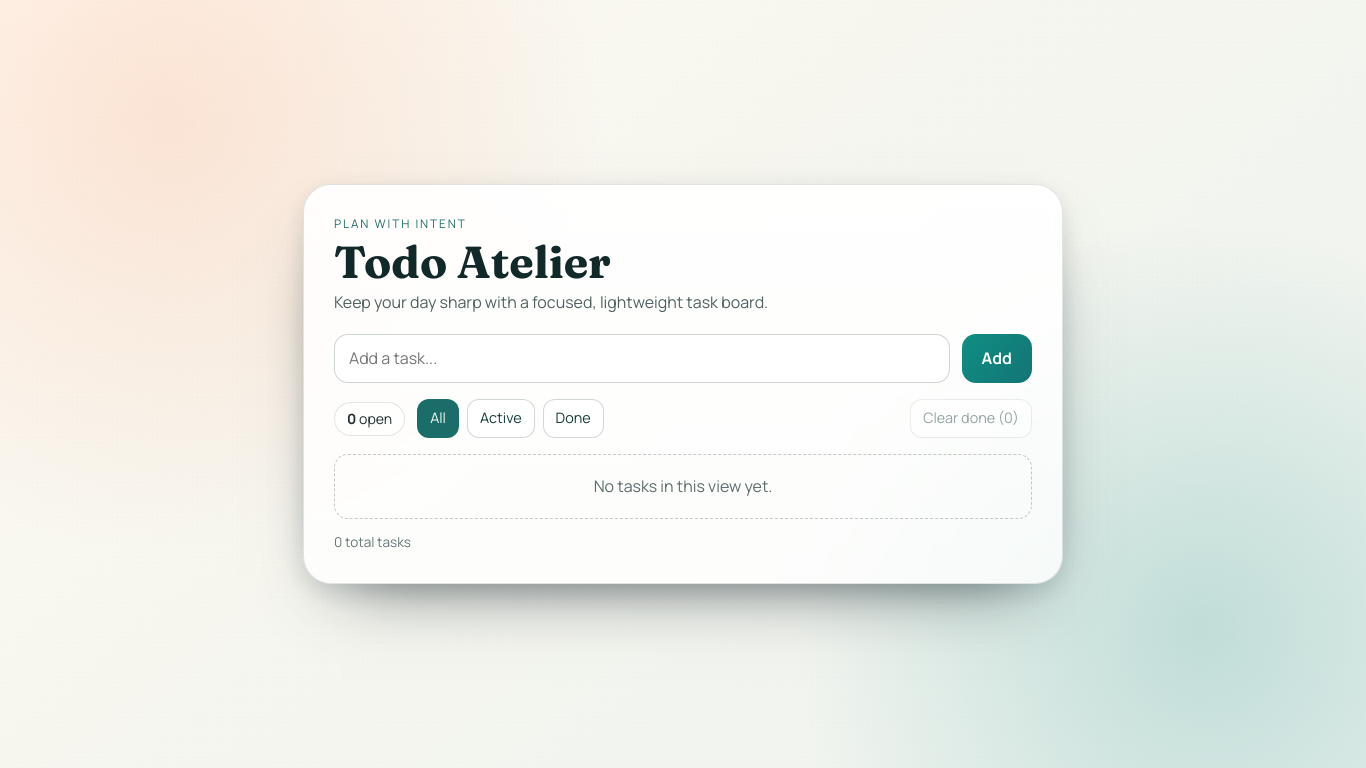
Test case: App › adds a new todo
Type "Buy groceries" into the field with placeholder "Add a task..." at (642, 359), box left=334, top=334, right=950, bottom=383
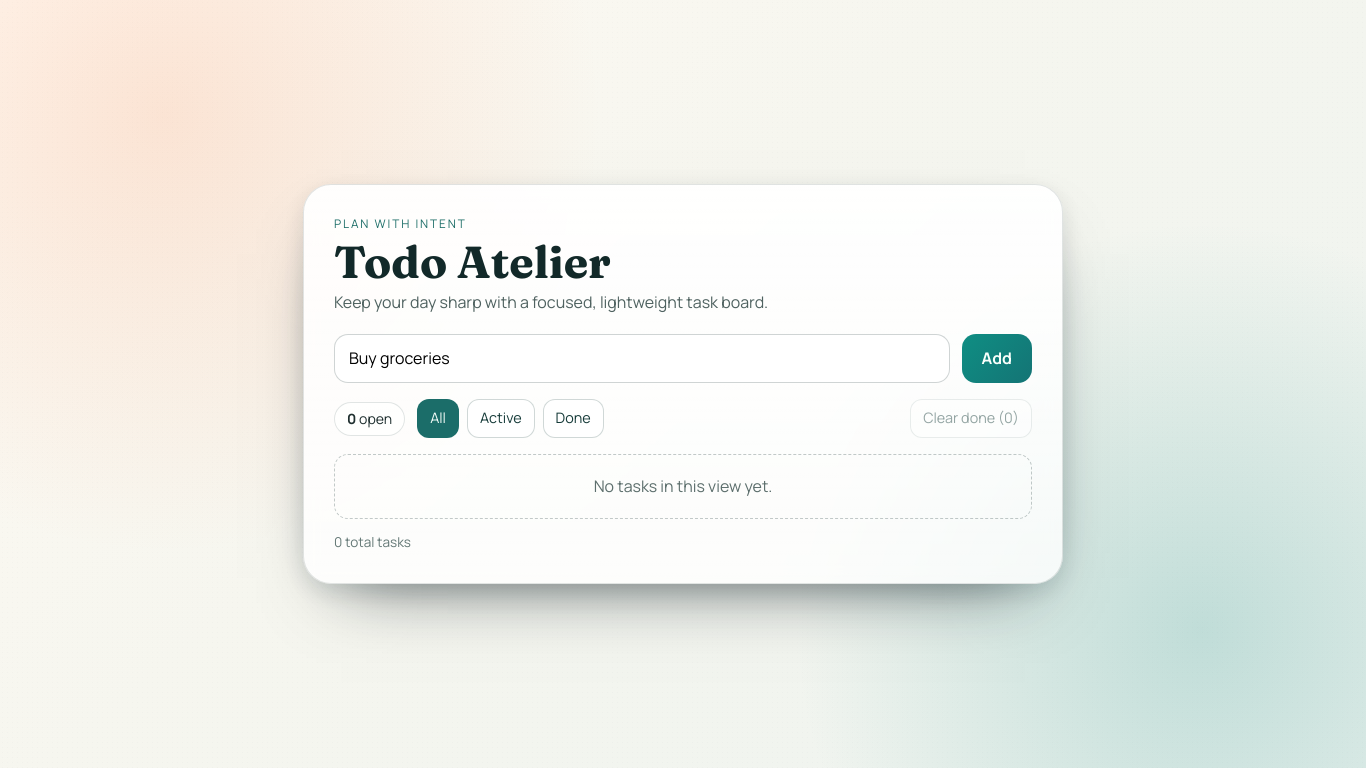
Click the button "Add" at (997, 359), box left=962, top=334, right=1032, bottom=383
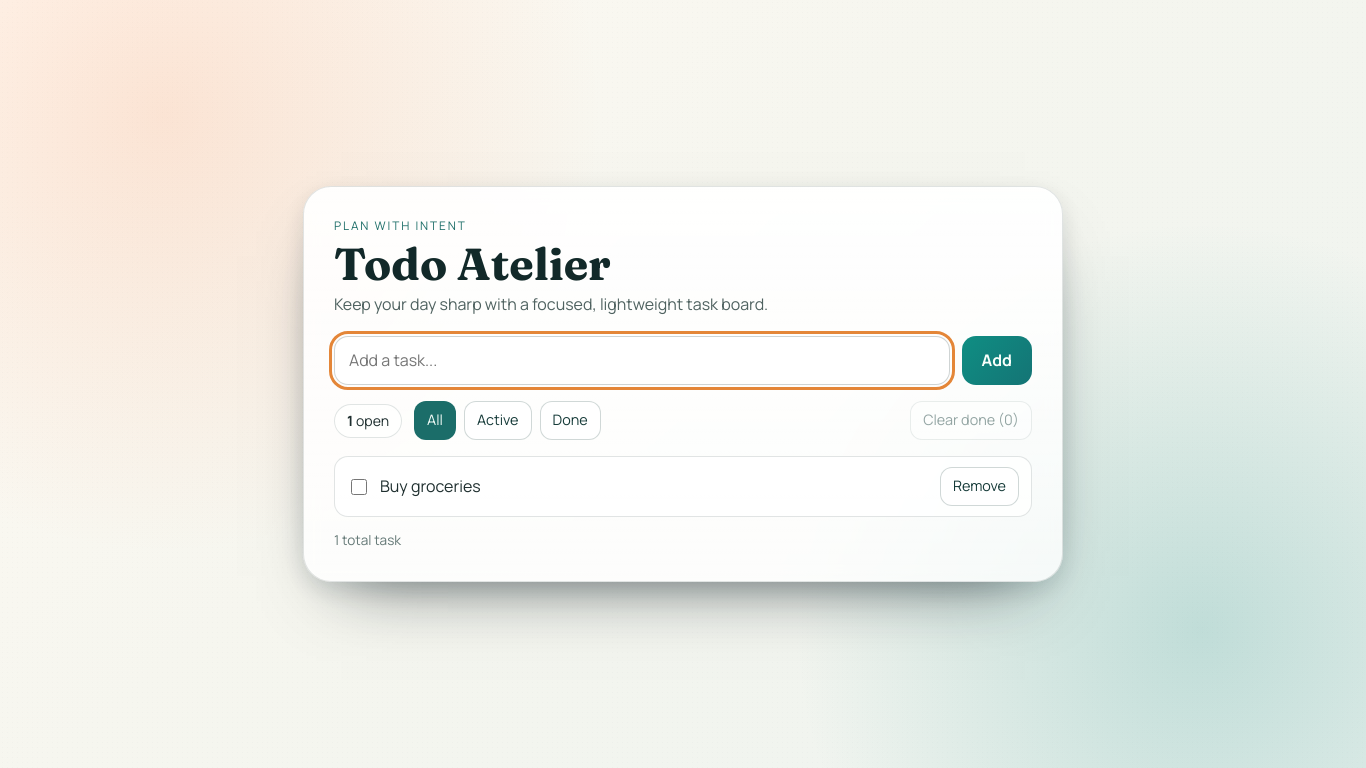
Expected: the text "Buy groceries" is shown, left=380, top=475, right=481, bottom=498
Expected: the text "1 total task" is shown, left=334, top=531, right=401, bottom=549
Expected: the field with placeholder "Add a task..." is empty, left=334, top=336, right=950, bottom=386
